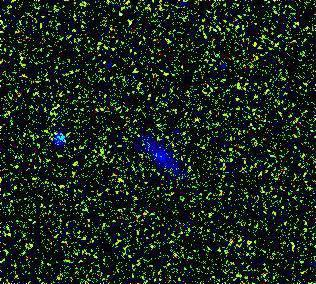star: (65, 147, 95, 177)
